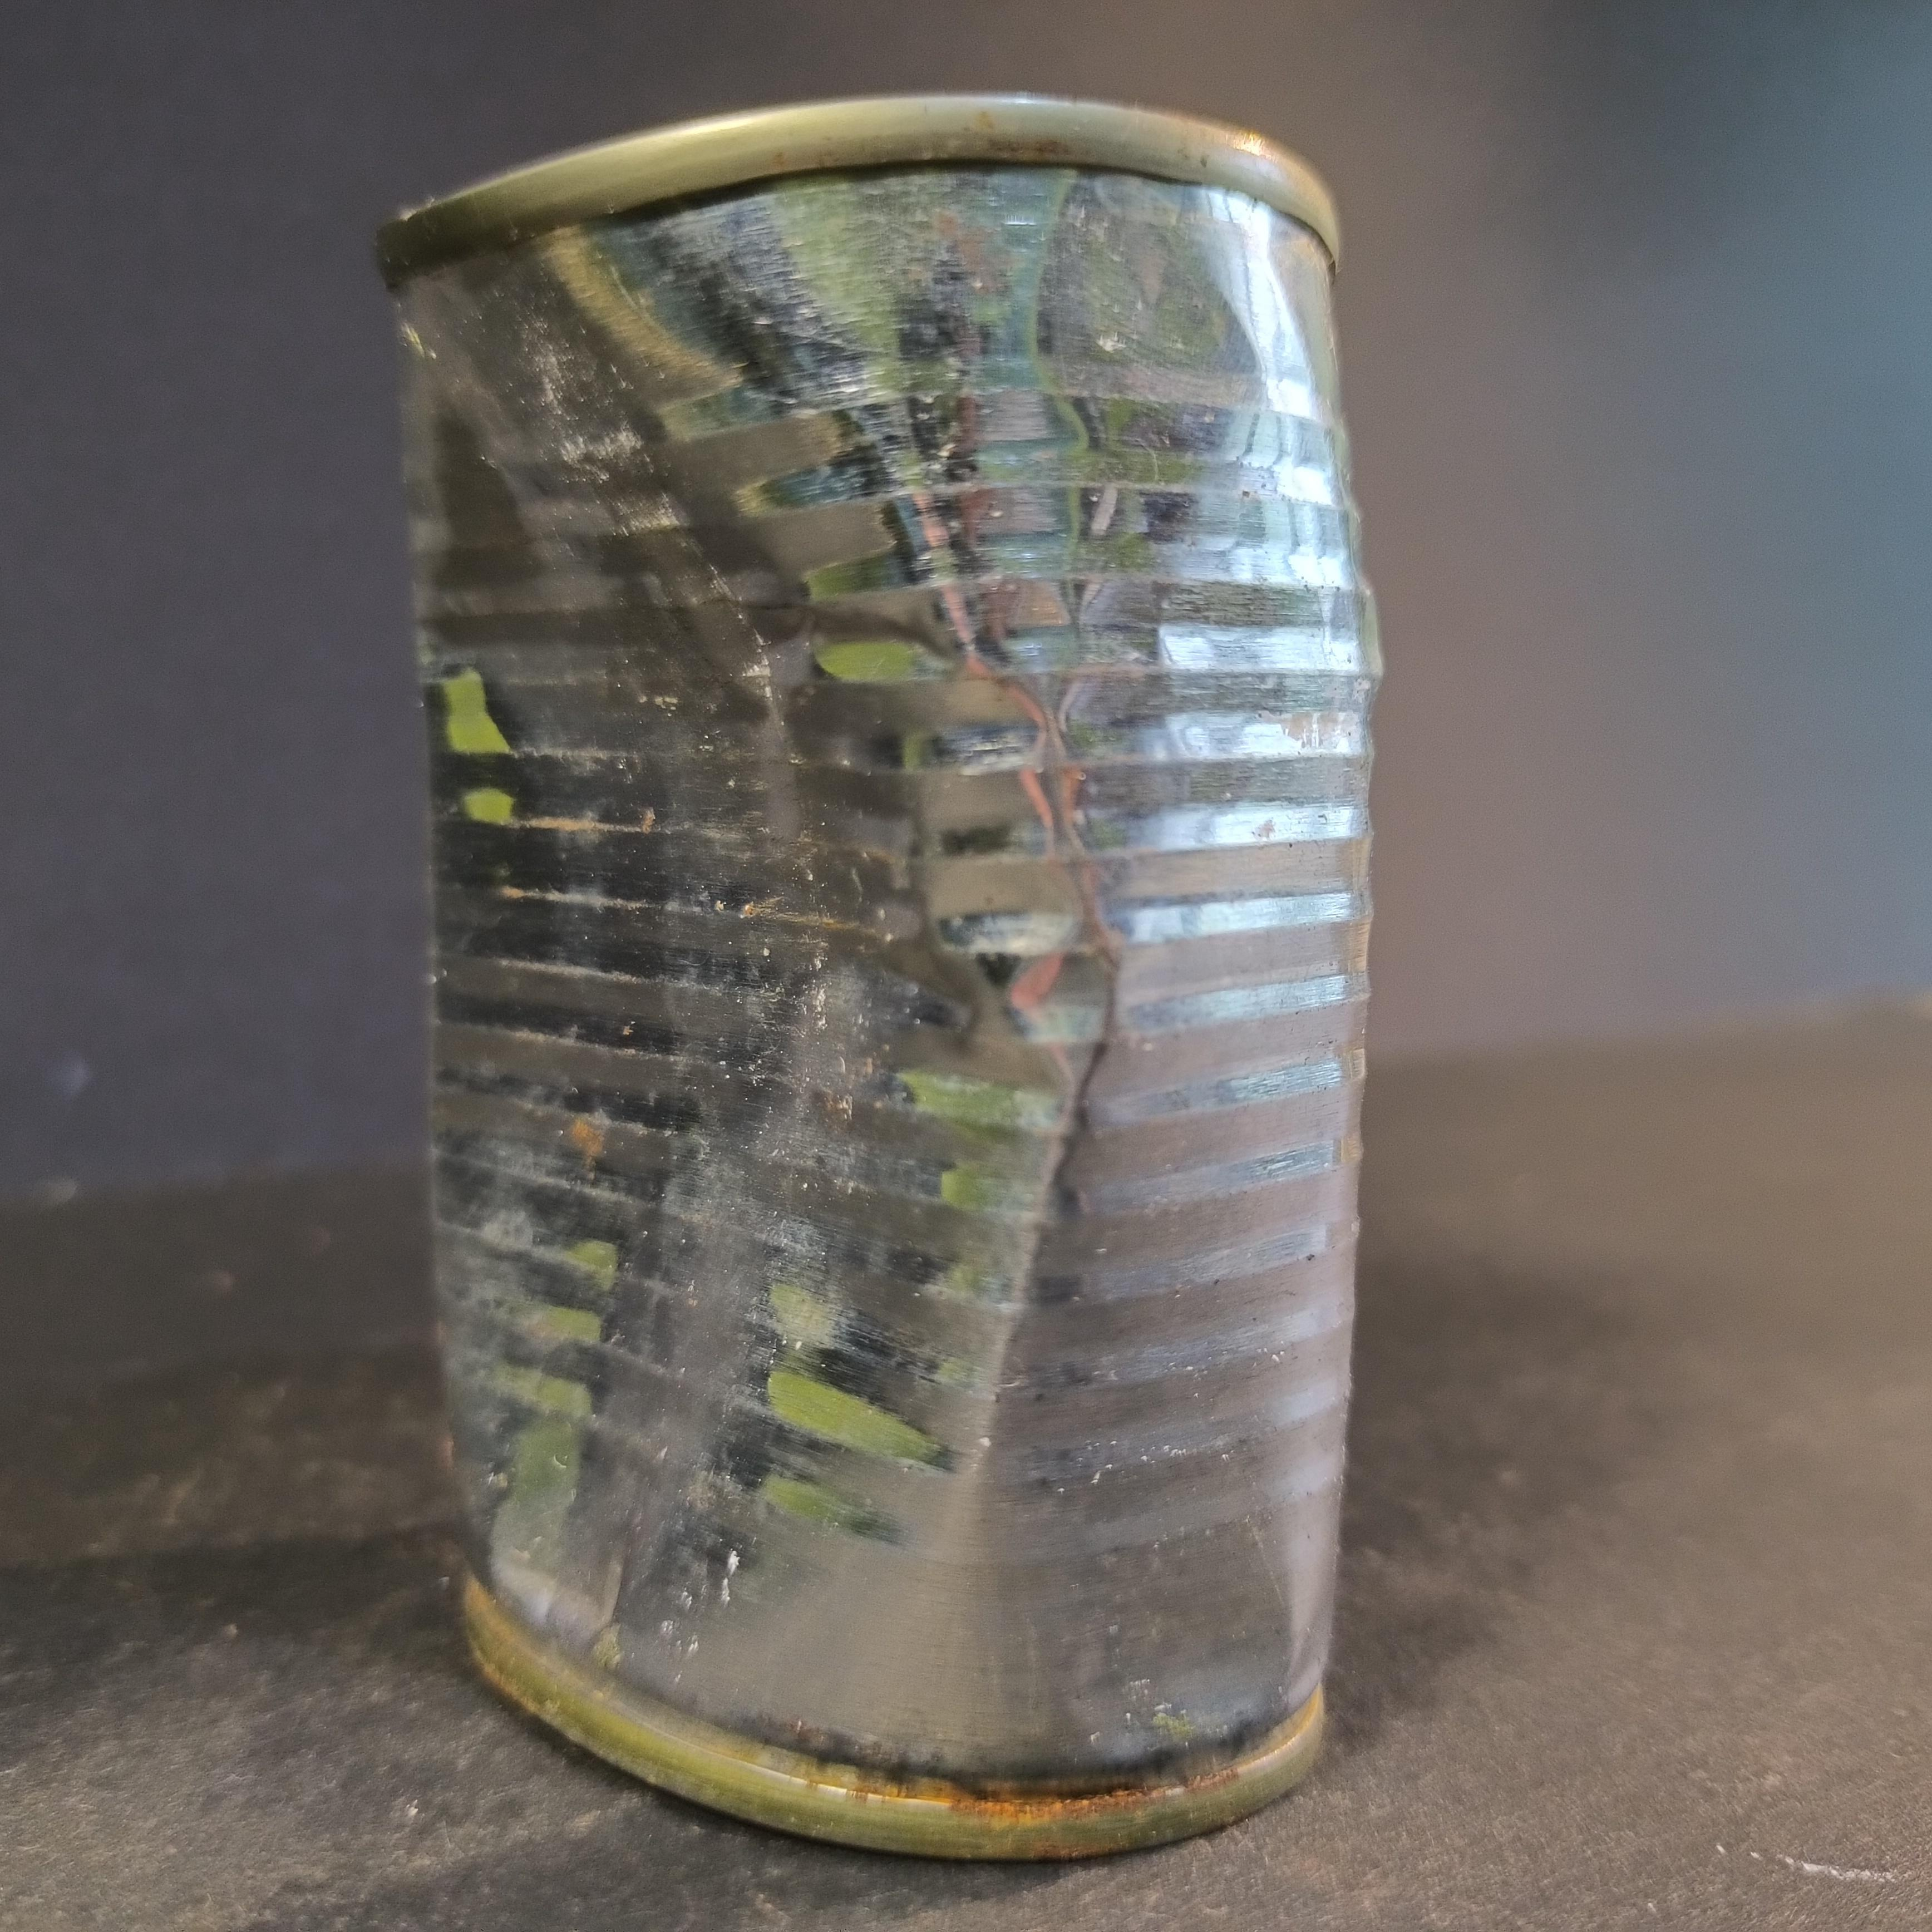Dented: (345, 44, 1384, 1861)
